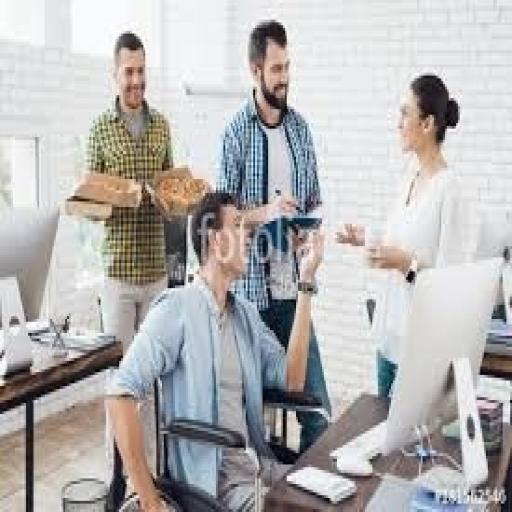eating: (102, 185, 328, 509), (214, 17, 330, 450), (80, 28, 177, 509), (333, 70, 471, 400)
